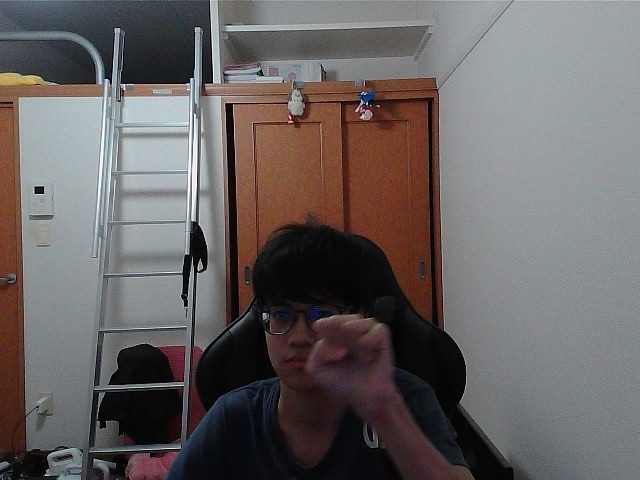closed_palm: (320, 325, 382, 388)
